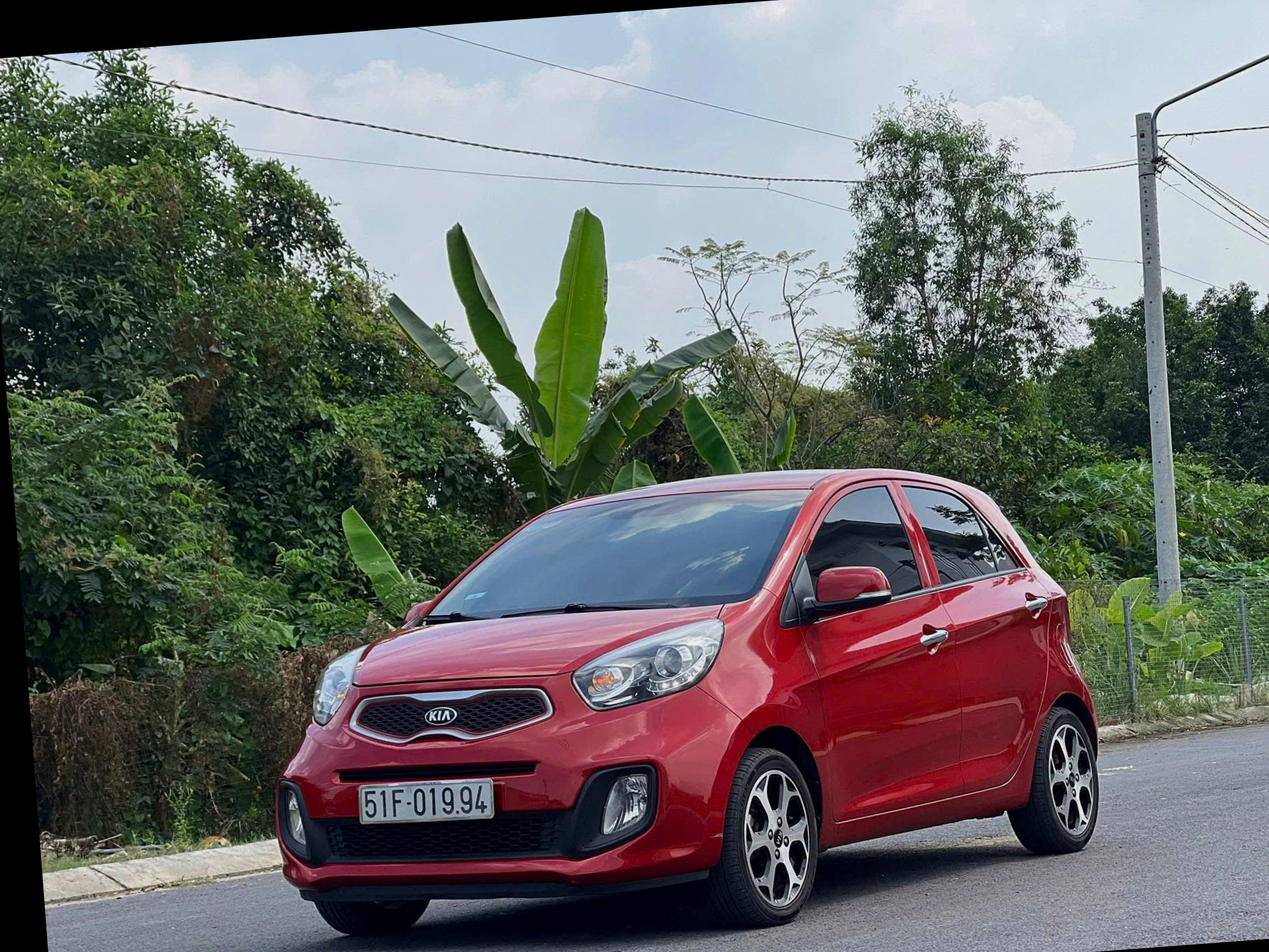Bien-so: (314, 729, 436, 779)
